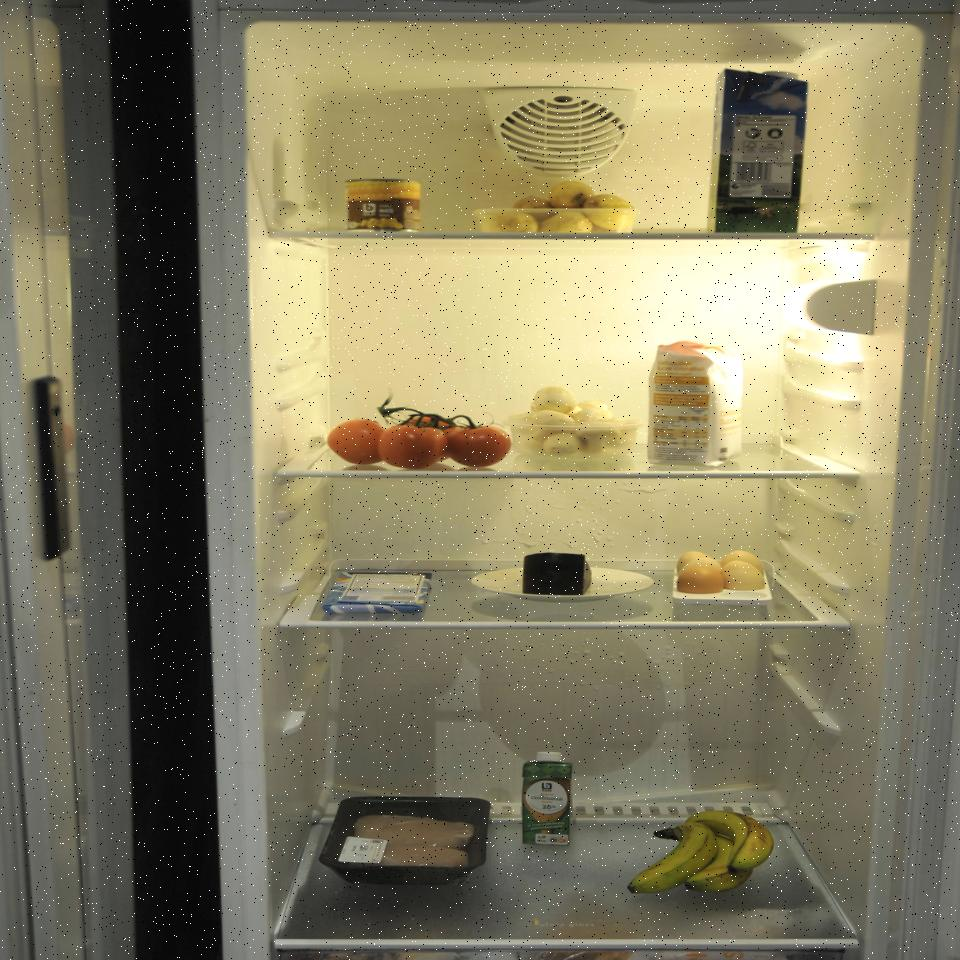Carne pollo: (316, 791, 496, 889)
Huevos: (671, 547, 775, 603)
Leche: (710, 64, 811, 236)
Plátano: (624, 808, 779, 902)
Queso: (521, 551, 601, 598)
Tomate: (324, 389, 514, 469)
